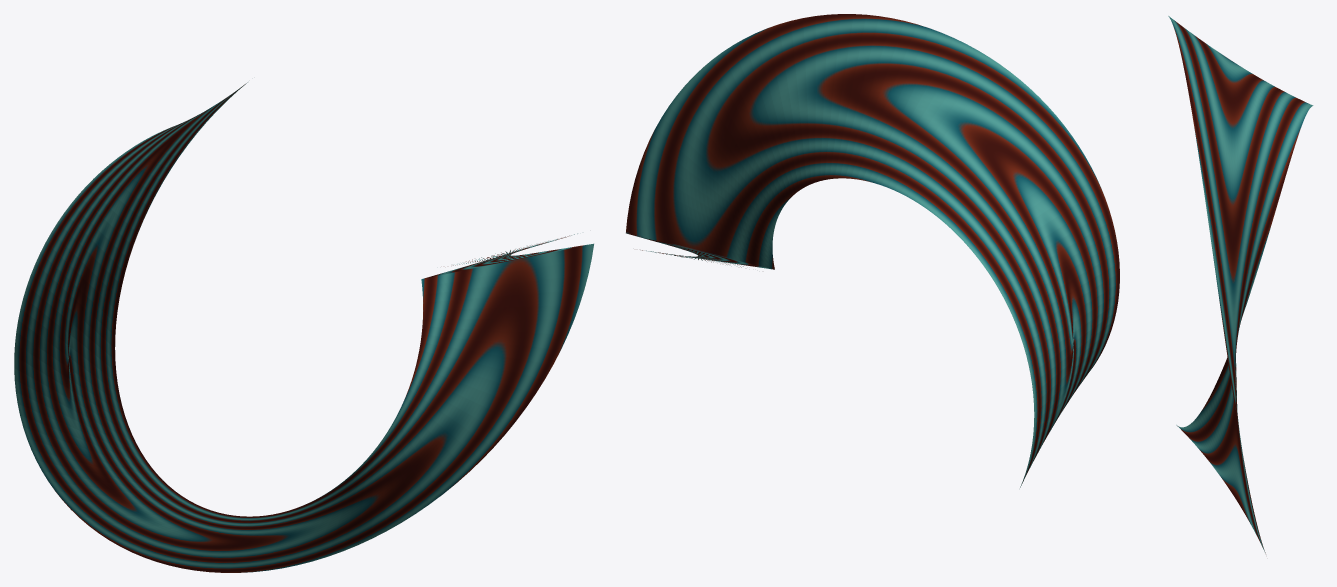
File: mobius-ocean-c2.glb
3 renders of one model, left to right at view 1: azimuth 30°, elevation 25°; view 2: azimuth 150°, elevation 25°; view 3: azimuth 270°, elevation 25°, orthographic. The views are drawn at different scales.
Parts seen in each view (by area): view 1: world; view 2: world; view 3: world.
Boxes of the visible parts, left/top/right/bottom form: world: left=14, top=82, right=593, bottom=572; world: left=626, top=14, right=1119, bottom=487; world: left=1168, top=16, right=1313, bottom=553.
Bounding box in the file's own units: 2.42 × 2.58 × 0.8.
Materials: 1 (1 with a texture image).
